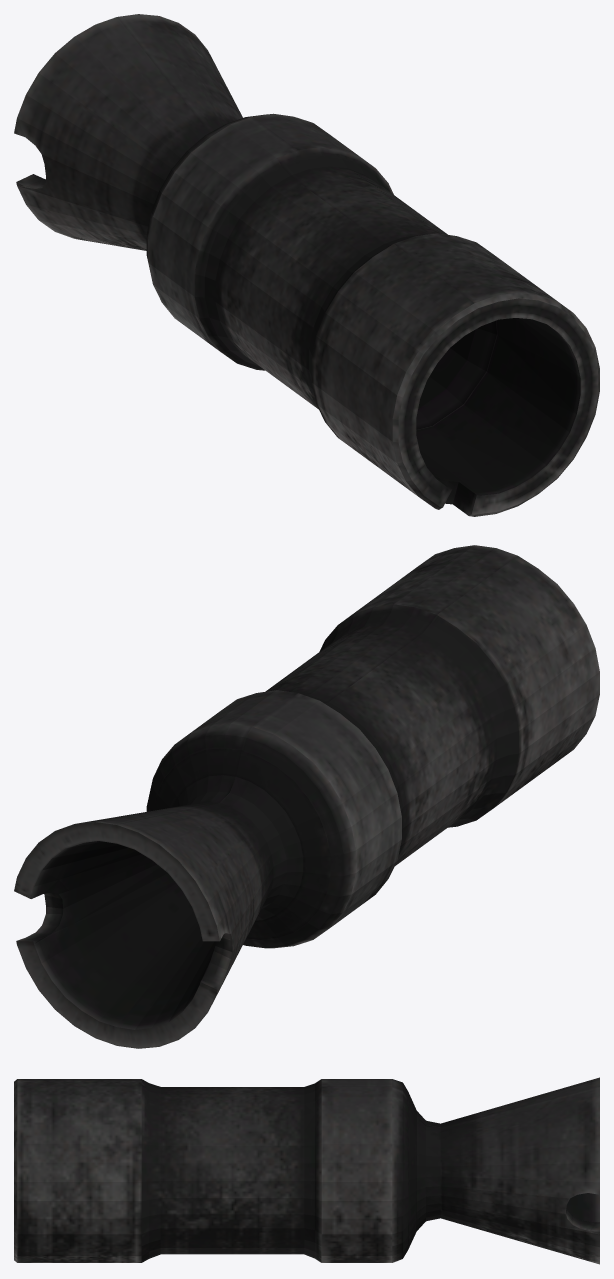
The picture shows the model from 3 angles, top to bottom: view 1: azimuth 30°, elevation 25°; view 2: azimuth 150°, elevation 25°; view 3: azimuth 270°, elevation 25°; orthographic projection. The views are drawn at different scales.
Parts seen in each view (by area): view 1: TW_57dc324a24597759501edc20_PZ_Import; view 2: TW_57dc324a24597759501edc20_PZ_Import; view 3: TW_57dc324a24597759501edc20_PZ_Import.
Boxes of the visible parts, x1,y1,x2,y2 form: TW_57dc324a24597759501edc20_PZ_Import: (14,14,599,516); TW_57dc324a24597759501edc20_PZ_Import: (14,545,599,1048); TW_57dc324a24597759501edc20_PZ_Import: (14,1077,599,1264).
Size of the model in its own units: 0.0161 by 0.0512 by 0.0164.
1 material, 1 textured.
